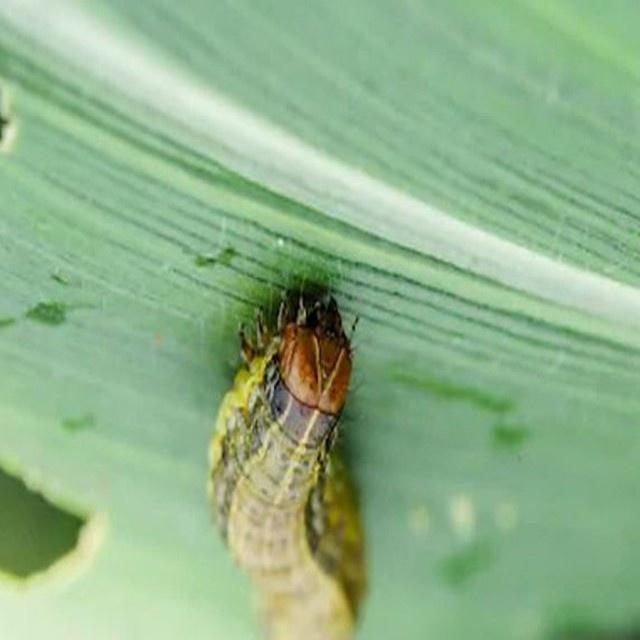gusano_cogollero: (208, 279, 368, 640)
